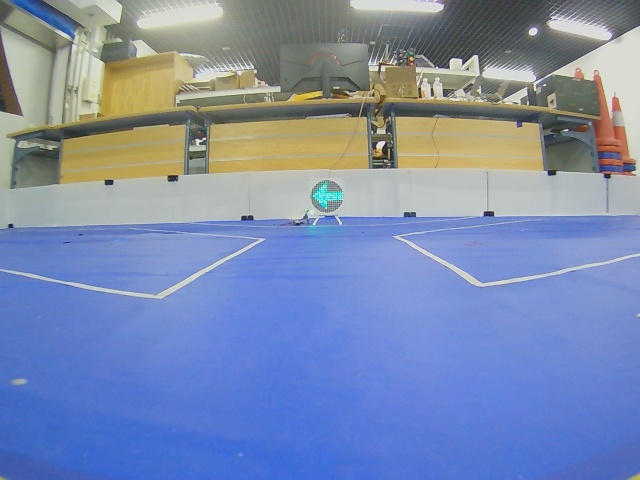left_green: (311, 180, 344, 213)
